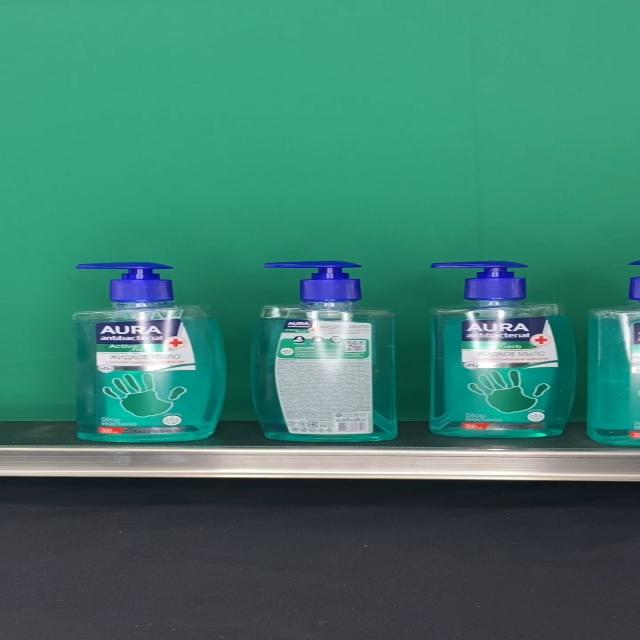Bottle: (70, 262, 225, 442), (250, 260, 399, 442), (428, 260, 579, 439)
Cap: (264, 260, 363, 302), (76, 262, 175, 302), (429, 261, 527, 301)
